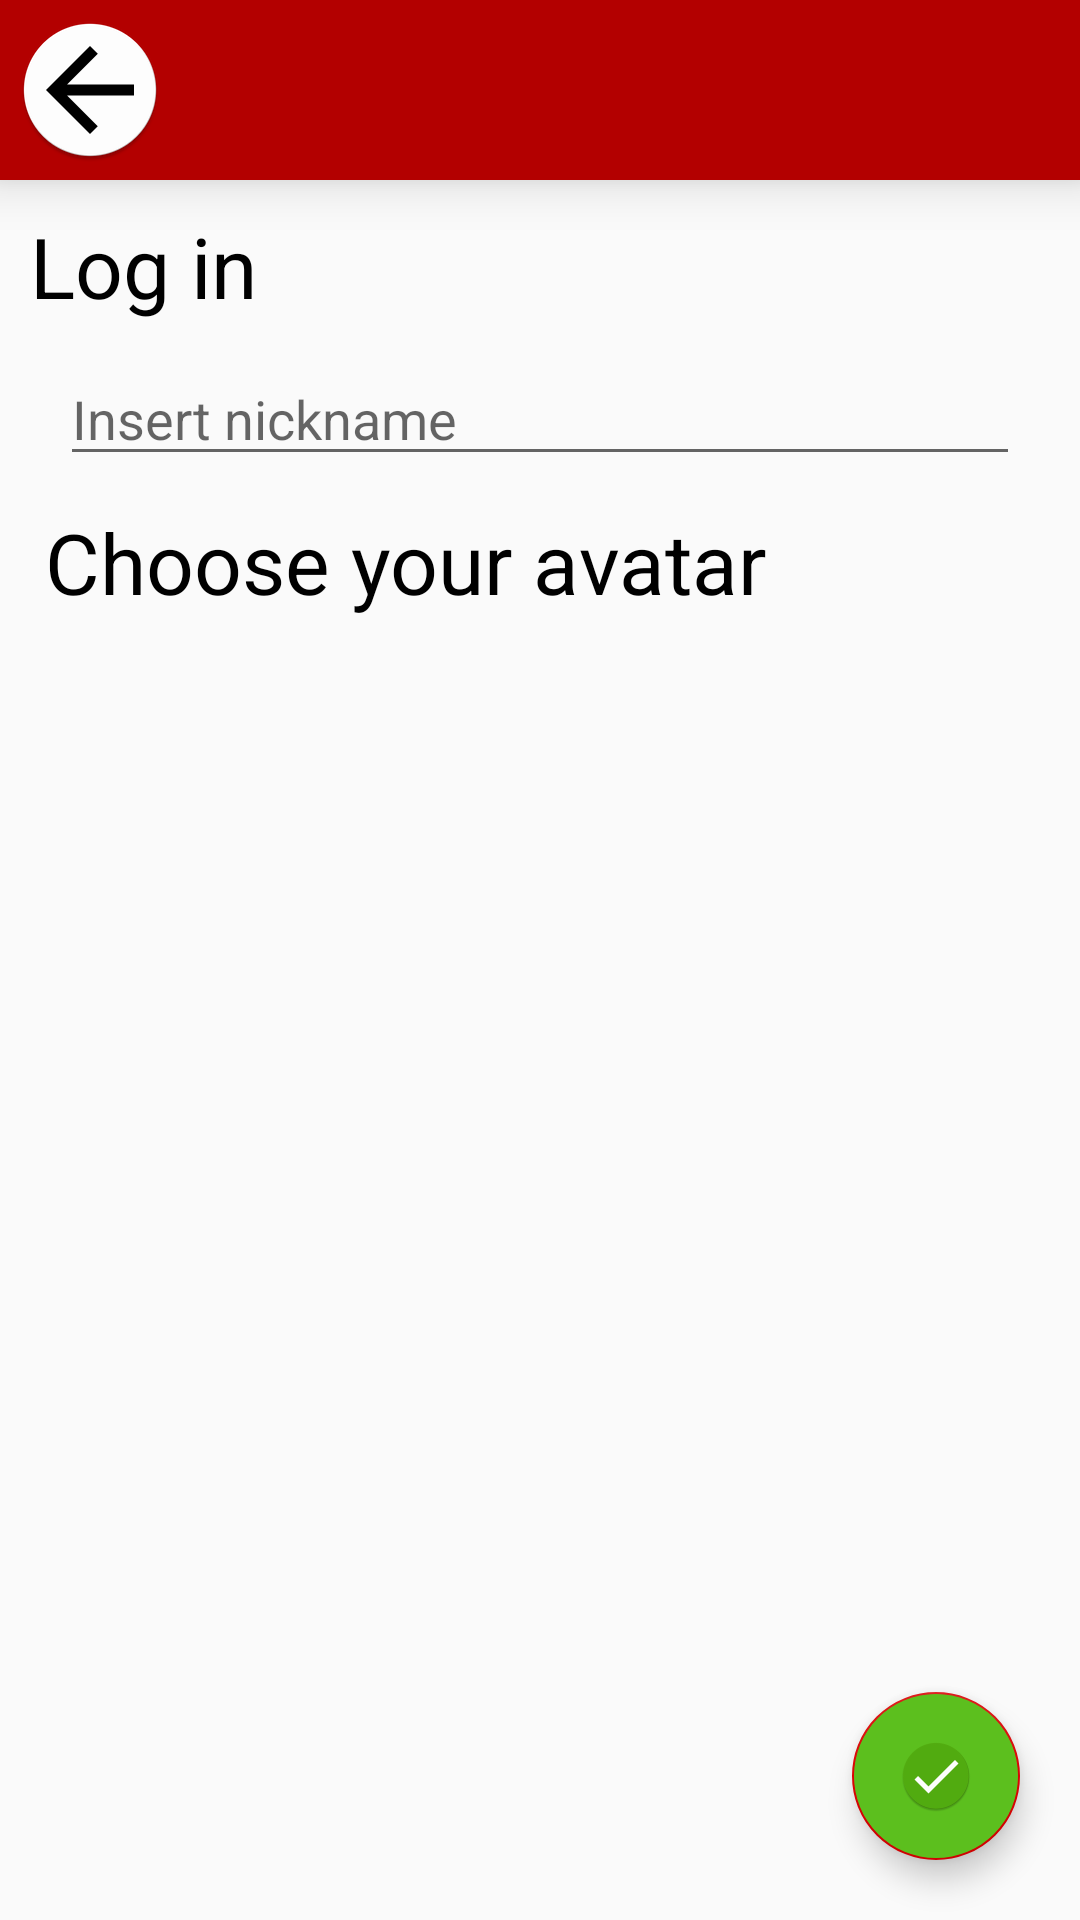

Icon click points for this 1080 × 1920 phone screenshot, format (x,y):
back: (90,91)
confirm: (936,1776)
